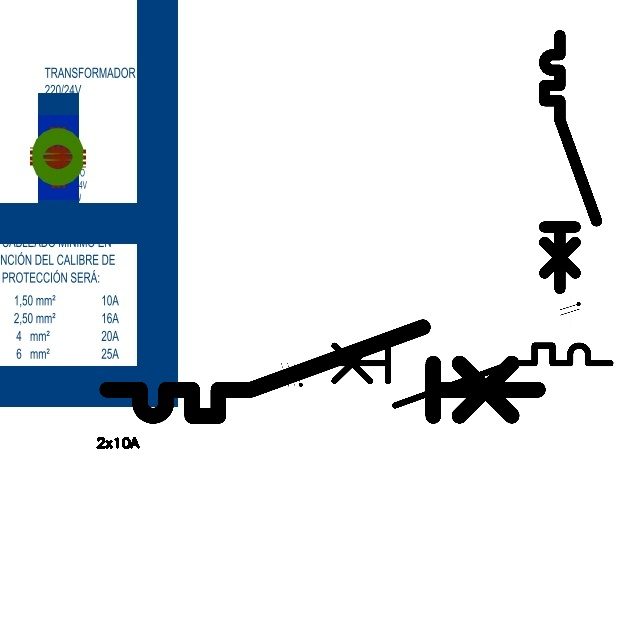interruptor_termomagnetico: (96, 316, 549, 427), (309, 338, 618, 413), (538, 29, 603, 295)
